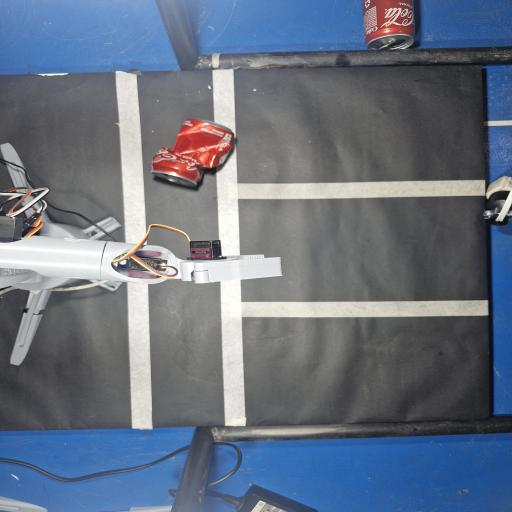lata_defectuoso: (152, 119, 234, 187)
